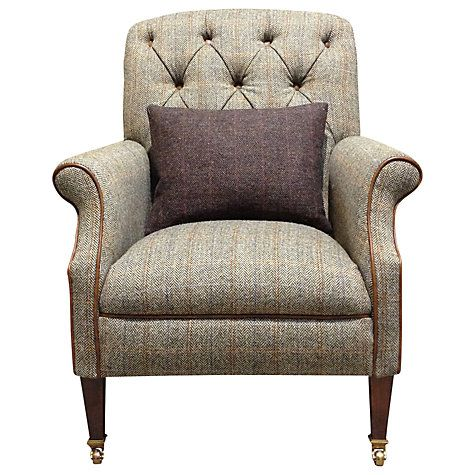chairs: (43, 10, 425, 469)
